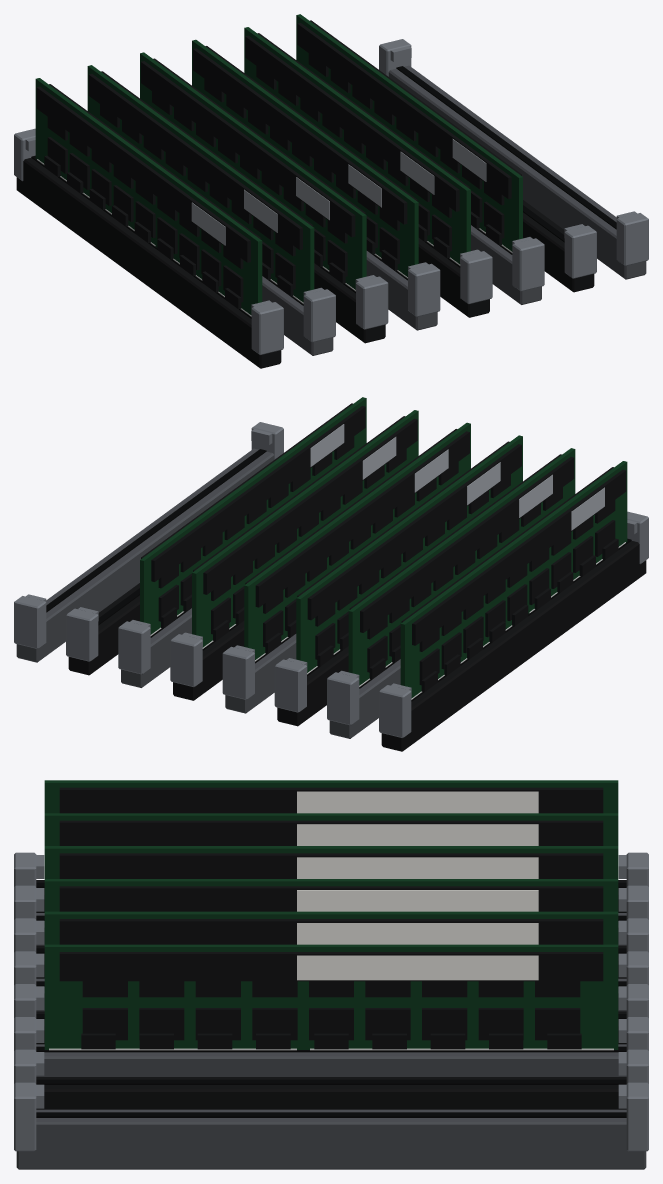
File: hwm_ram_ddr4_512gb.glb
3 views of the same model, one above another, from view 1: azimuth 30°, elevation 25°; view 2: azimuth 150°, elevation 25°; view 3: azimuth 270°, elevation 25° (orthographic). The views are drawn at different scales.
Visible parts, largest first — view 1: Slots, Stick_0, Stick_1, Stick_4, Stick_3, Stick_2, Stick_5, Latch_2_1, Latch_1_1, Latch_4_1, Latch_0_1, Latch_5_1 (+5 smaller); view 2: Slots, Stick_0, Stick_1, Stick_4, Stick_3, Stick_2, Stick_5, Latch_2_0, Latch_1_0, Latch_4_0, Latch_0_0, Latch_5_0 (+5 smaller); view 3: Slots, Stick_5, Stick_0, Stick_4, Stick_1, Stick_2, Stick_3, Latch_7_0, Latch_7_1, Latch_2_0, Latch_2_1, Latch_6_0 (+11 smaller).
Boxes of the visible parts, <box> form: Slots: <box>16,65,646,368</box>; Stick_0: <box>35,78,262,316</box>; Stick_1: <box>87,65,314,303</box>; Stick_4: <box>244,27,470,265</box>; Stick_3: <box>192,39,418,278</box>; Stick_2: <box>140,52,366,291</box>; Stick_5: <box>296,14,522,252</box>; Latch_2_1: <box>355,275,388,329</box>; Latch_1_1: <box>303,287,335,342</box>; Latch_4_1: <box>460,249,492,303</box>; Latch_0_1: <box>251,300,283,354</box>; Latch_5_1: <box>512,237,544,291</box>; Slots: <box>16,448,646,751</box>; Stick_0: <box>400,461,627,699</box>; Stick_1: <box>348,448,575,686</box>; Stick_4: <box>192,410,418,648</box>; Stick_3: <box>244,422,470,661</box>; Stick_2: <box>296,435,522,674</box>; Stick_5: <box>140,397,366,635</box>; Latch_2_0: <box>274,658,307,712</box>; Latch_1_0: <box>327,670,359,725</box>; Latch_4_0: <box>170,632,202,686</box>; Latch_0_0: <box>379,683,411,737</box>; Latch_5_0: <box>118,620,150,674</box>; Slots: <box>16,880,646,1169</box>; Stick_5: <box>44,944,618,1050</box>; Stick_0: <box>44,780,618,813</box>; Stick_4: <box>44,911,618,944</box>; Stick_1: <box>44,813,618,845</box>; Stick_2: <box>44,846,618,878</box>; Stick_3: <box>44,879,618,911</box>; Latch_7_0: <box>618,1082,648,1151</box>; Latch_7_1: <box>14,1082,44,1151</box>; Latch_2_0: <box>618,918,648,952</box>; Latch_2_1: <box>14,918,44,952</box>; Latch_6_0: <box>618,1049,648,1083</box>.
Bounding box in the file's own units: 0.1346 × 0.0389 × 0.1472.
